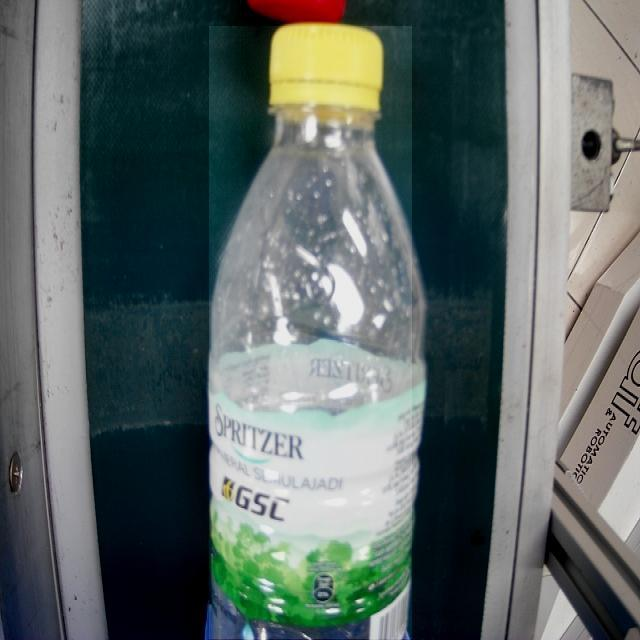Pet_Bottle: (209, 26, 412, 639)
